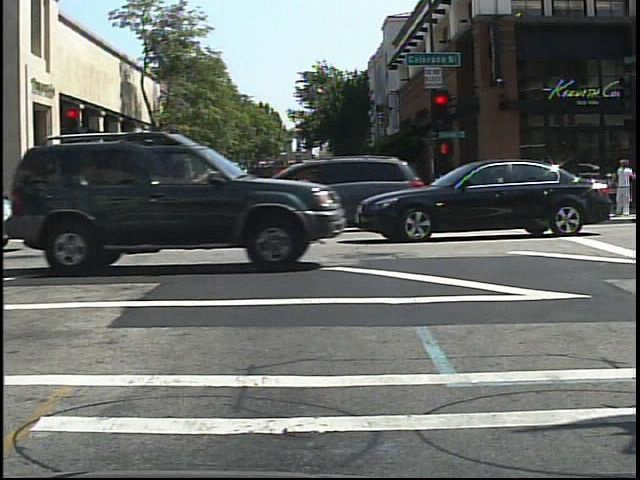person: (614, 155, 637, 221), (164, 180, 182, 220)
